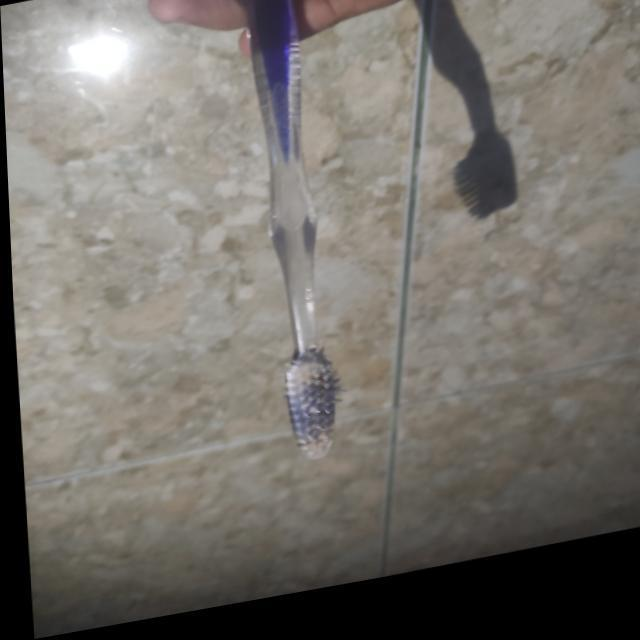toothbrush: (246, 0, 358, 480)
